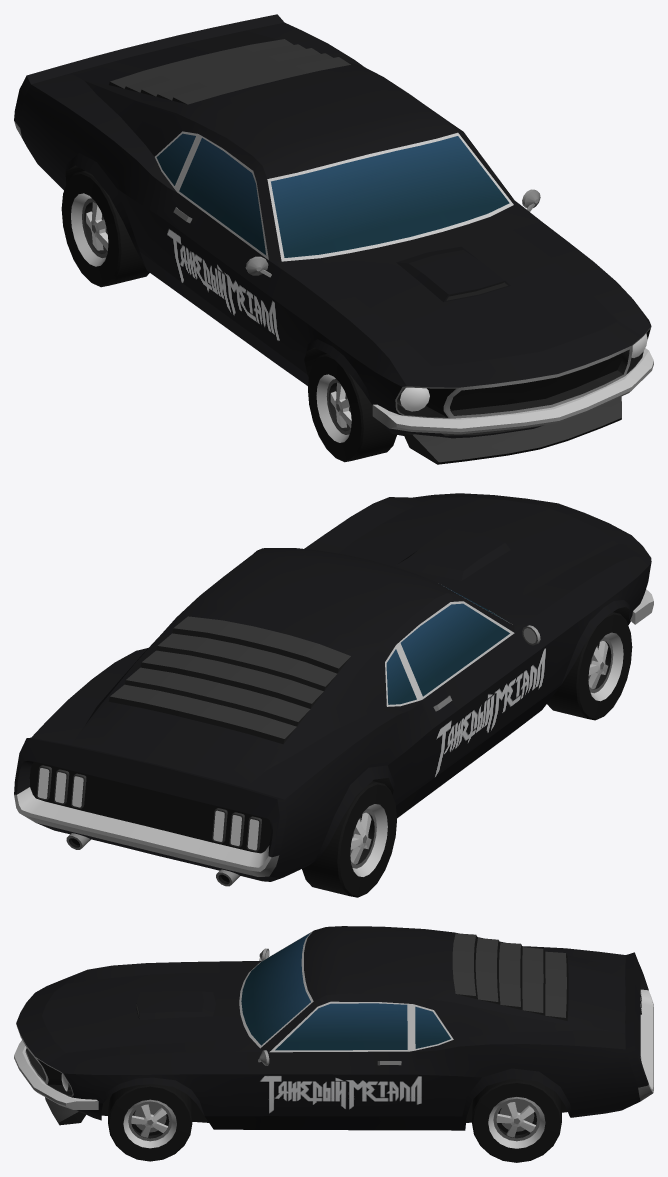
File: Prometheus2.fbx
3 views of the same model, one above another, from view 1: azimuth 30°, elevation 25°; view 2: azimuth 150°, elevation 25°; view 3: azimuth 270°, elevation 25° (orthographic). The views are drawn at different scales.
Parts seen in each view (by area): view 1: Body, RearRightWheel, FrontRightWheel; view 2: Body, RearRightWheel, FrontRightWheel; view 3: Body, RearLeftWheel, FrontLeftWheel.
Boxes of the visible parts, x1,y1,x2,y2 form: Body: (14,14,653,464); RearRightWheel: (61,171,149,287); FrontRightWheel: (308,354,396,462); Body: (14,493,653,886); RearRightWheel: (302,781,396,897); FrontRightWheel: (547,612,632,720); Body: (14,926,653,1130); RearLeftWheel: (471,1078,561,1162); FrontLeftWheel: (108,1084,192,1161).
Size of the model in its own units: 219 by 147 by 542.
